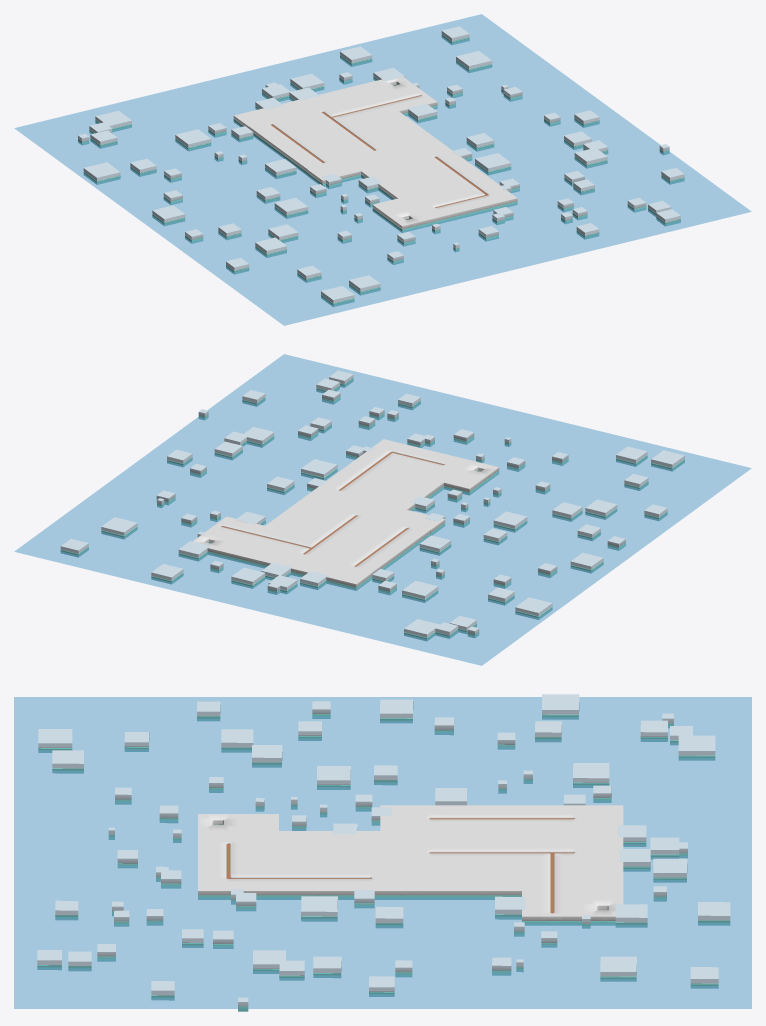
The picture shows the model from 3 angles, top to bottom: view 1: azimuth 30°, elevation 25°; view 2: azimuth 150°, elevation 25°; view 3: azimuth 270°, elevation 25°; orthographic projection. The views are drawn at different scales.
Parts seen in each view (by area): view 1: 平面.002, square_forest_detail.122, 碎冰面.001; view 2: 平面.002, 碎冰面.001, square_forest_detail.122; view 3: 平面.002, square_forest_detail.122, 碎冰面.001.
Boxes of the visible parts, x1=… form: 平面.002: x1=14, y1=14, x2=751, y2=325; square_forest_detail.122: x1=233, y1=77, x2=517, y2=232; 碎冰面.001: x1=78, y1=26, x2=684, y2=306; 平面.002: x1=14, y1=354, x2=751, y2=665; 碎冰面.001: x1=60, y1=370, x2=684, y2=641; square_forest_detail.122: x1=192, y1=439, x2=499, y2=590; 平面.002: x1=14, y1=697, x2=751, y2=1008; square_forest_detail.122: x1=198, y1=805, x2=623, y2=925; 碎冰面.001: x1=37, y1=694, x2=730, y2=1011.
Size of the model in its own units: 7289 by 106 by 7289.
